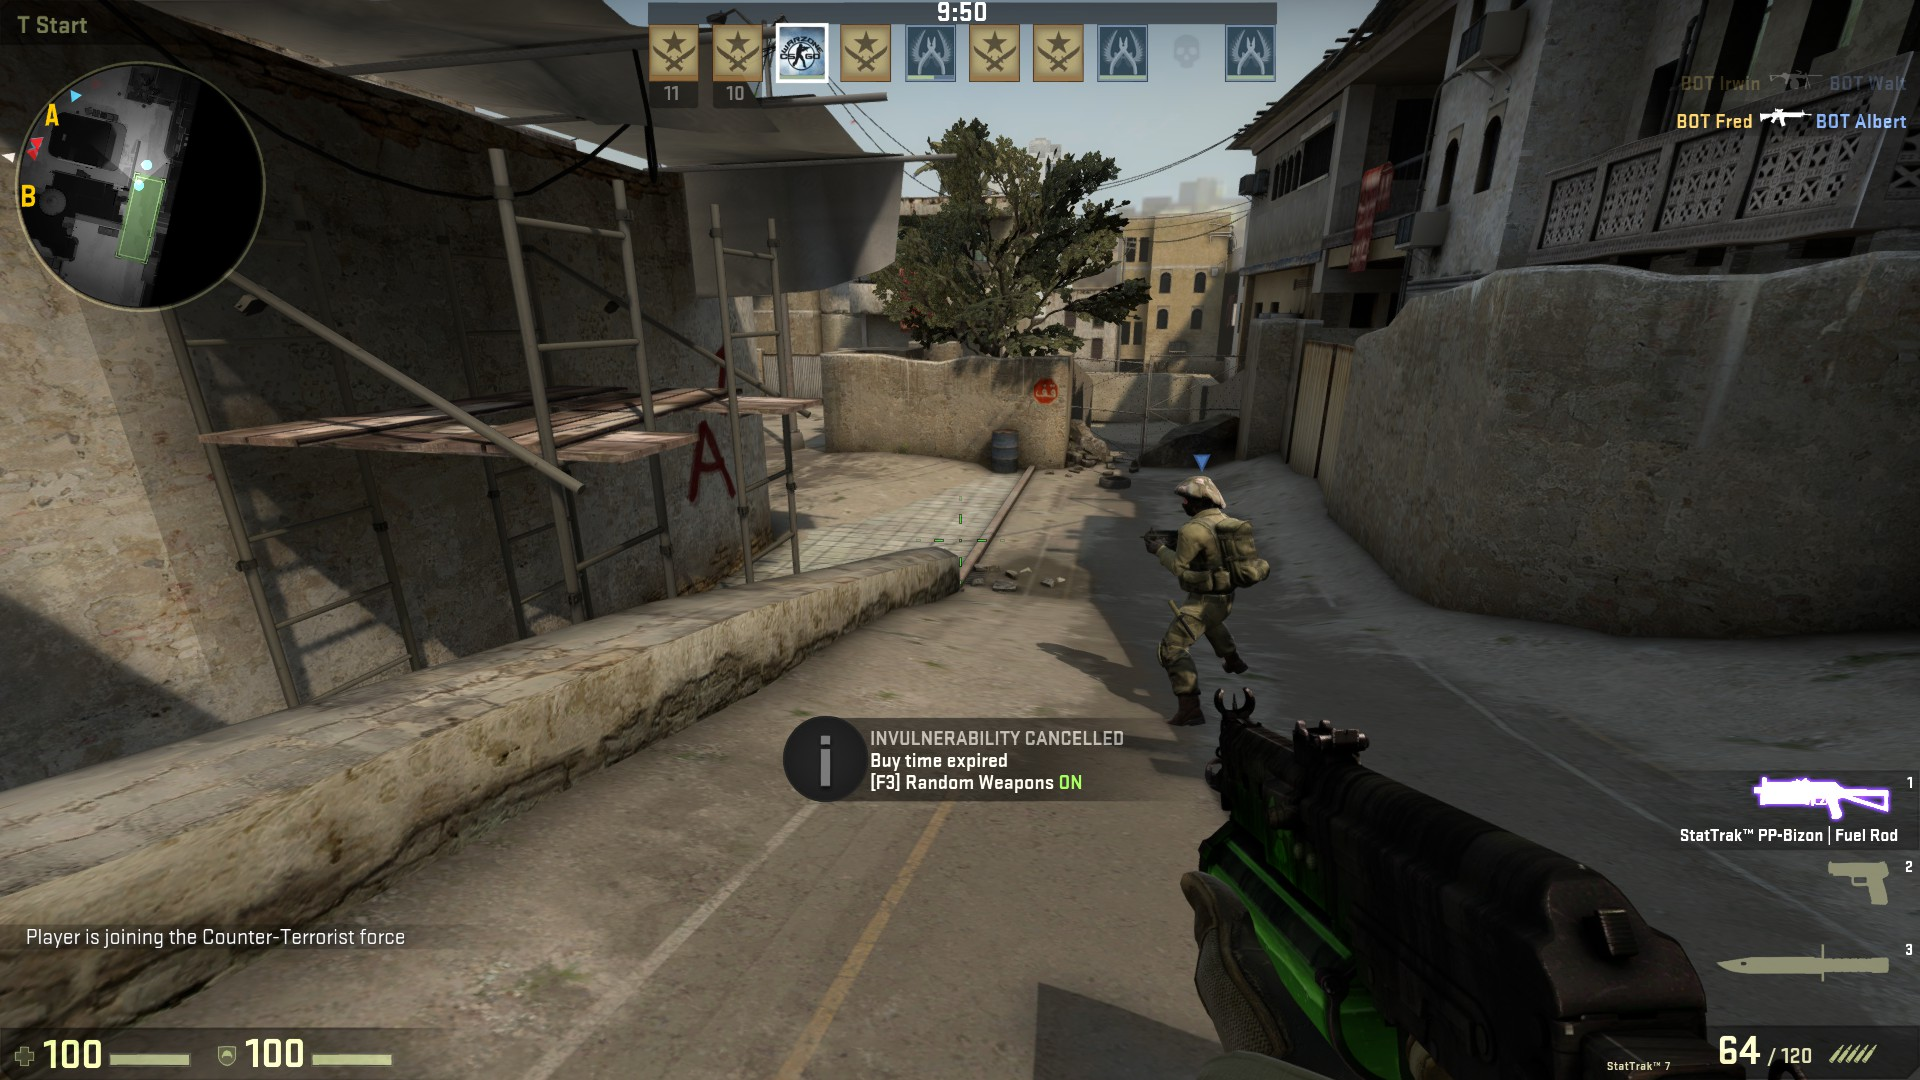c: (1151, 469, 1261, 724)
ch: (1176, 472, 1232, 525)
